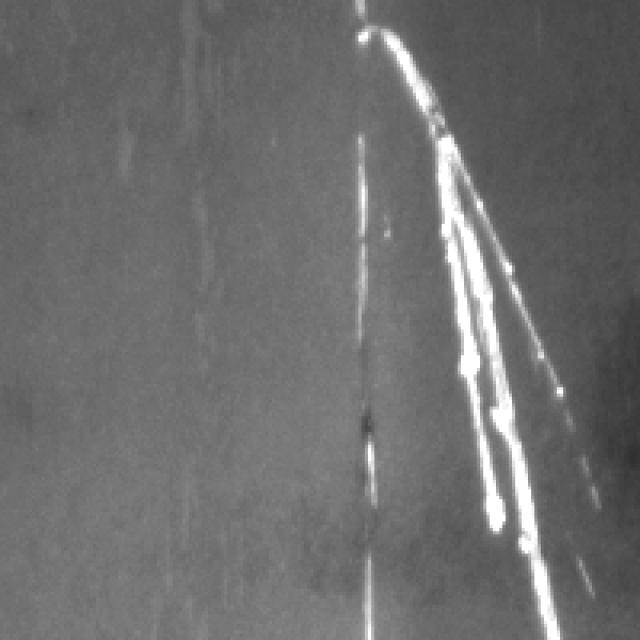scratches: (454, 150, 571, 640), (356, 128, 378, 640), (368, 11, 448, 131)
